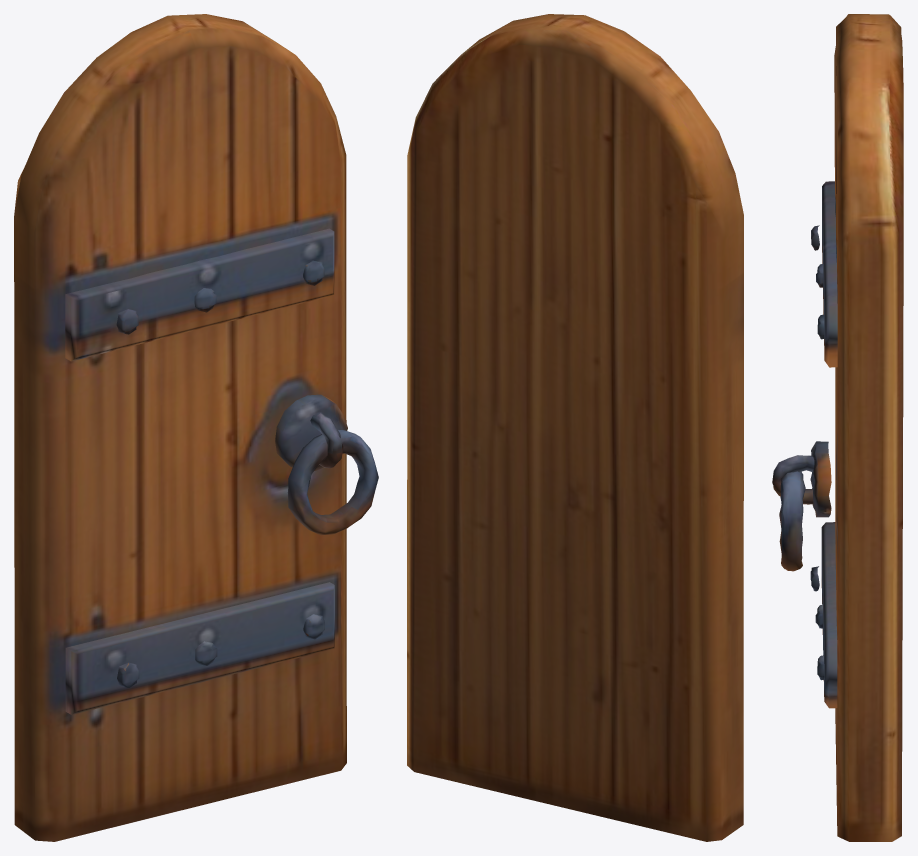
File: cabin_door.glb
The picture shows the model from 3 angles, left to right: view 1: azimuth 30°, elevation 25°; view 2: azimuth 150°, elevation 25°; view 3: azimuth 270°, elevation 25°; orthographic projection. The views are drawn at different scales.
Visible parts, largest first — view 1: door; view 2: door; view 3: door.
Part boxes in pixels (bbox=[...]): door: bbox=[14, 14, 378, 841]; door: bbox=[407, 14, 743, 841]; door: bbox=[772, 14, 903, 841].
Size of the model in its own units: 0.83 by 1.95 by 0.3131.
Materials: 1 (1 with a texture image).
